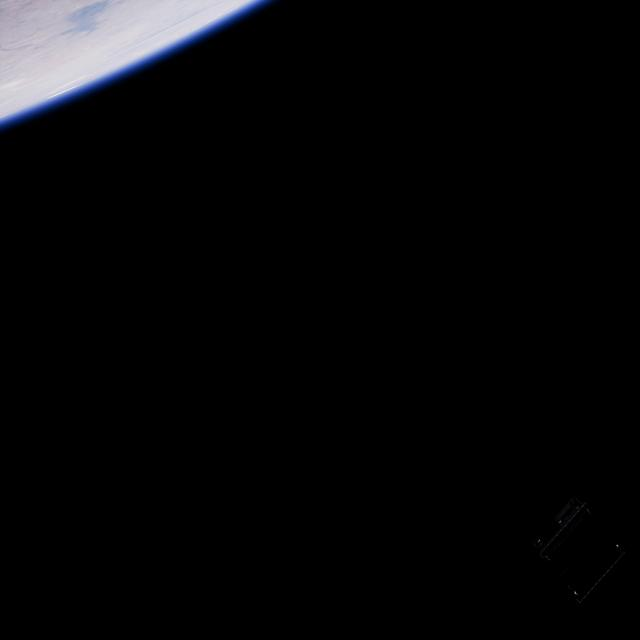satellite: (542, 489, 628, 606)
